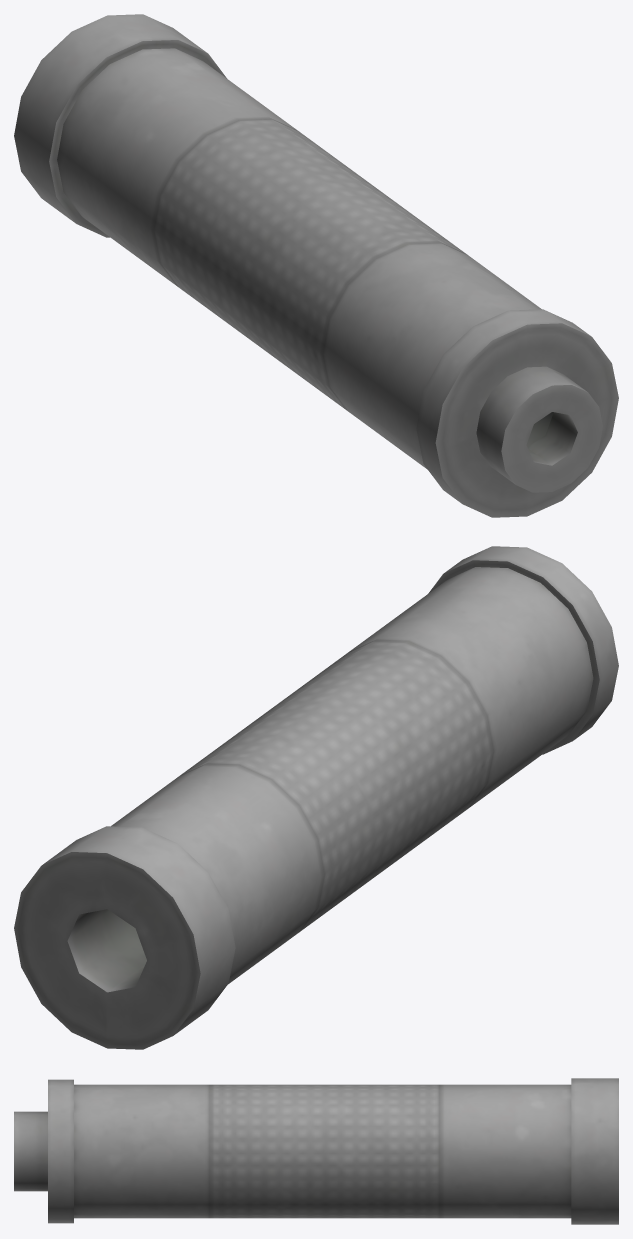
The model's file is IG_Acc_Muzzle_PST_SIL_1.fbx.
The picture shows the model from 3 angles, top to bottom: view 1: azimuth 30°, elevation 25°; view 2: azimuth 150°, elevation 25°; view 3: azimuth 270°, elevation 25°; orthographic projection. The views are drawn at different scales.
Visible parts, largest first — view 1: Muzzle_PST_SIL_1; view 2: Muzzle_PST_SIL_1; view 3: Muzzle_PST_SIL_1.
Boxes of the visible parts, <box> form: Muzzle_PST_SIL_1: <box>14,14,618,517</box>; Muzzle_PST_SIL_1: <box>14,546,618,1049</box>; Muzzle_PST_SIL_1: <box>14,1078,618,1224</box>.
Size of the model in its own units: 0.073 by 0.073 by 0.3014.
